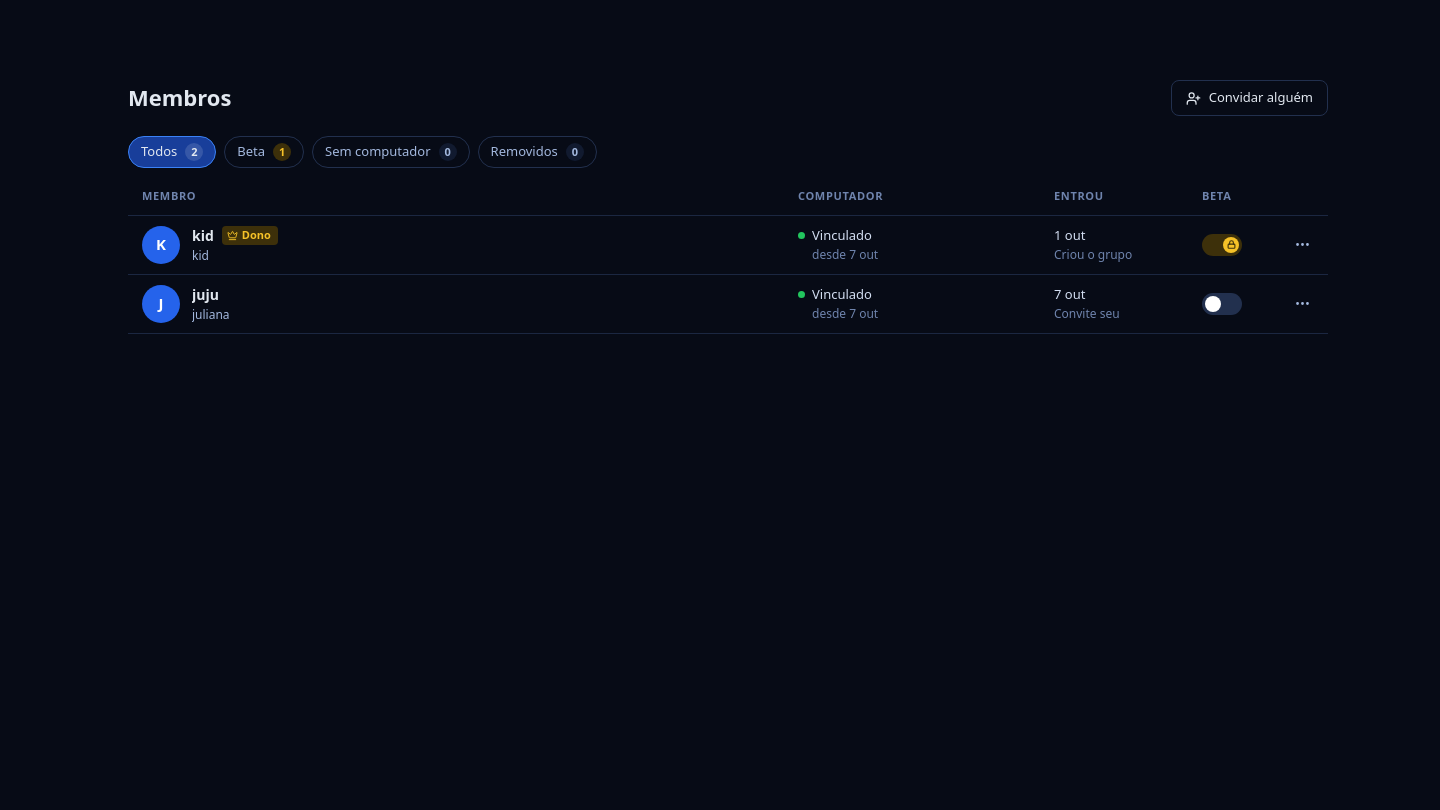
Test: ações do membro › se a recuperação falha, diz que o computador já saiu e o menu ainda oferece a recuperação
Click the button named "Mais ações para juju": (1302, 304) [1286, 288, 1318, 320]
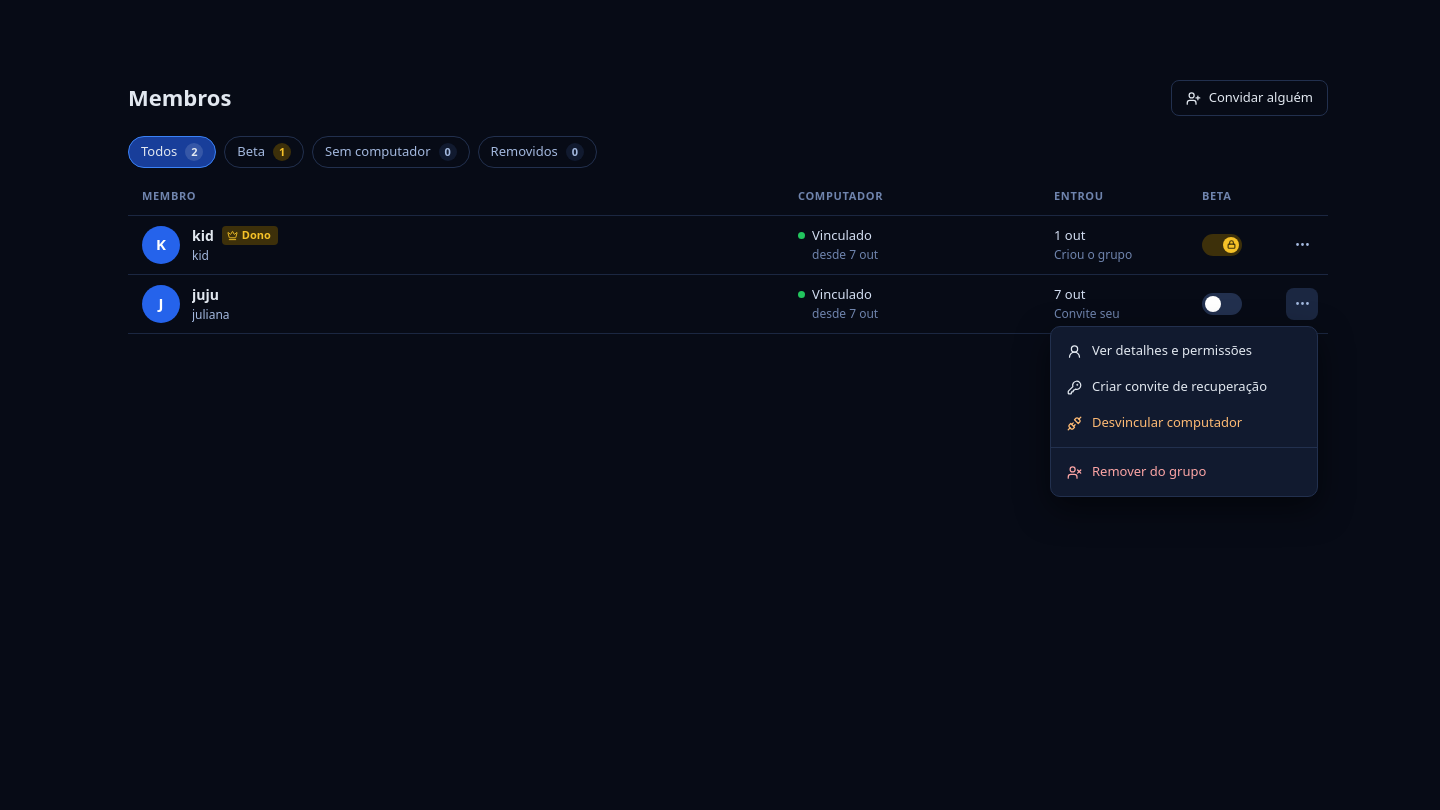
Click the menu item "Desvincular computador": (1155, 422) [1067, 413, 1242, 431]
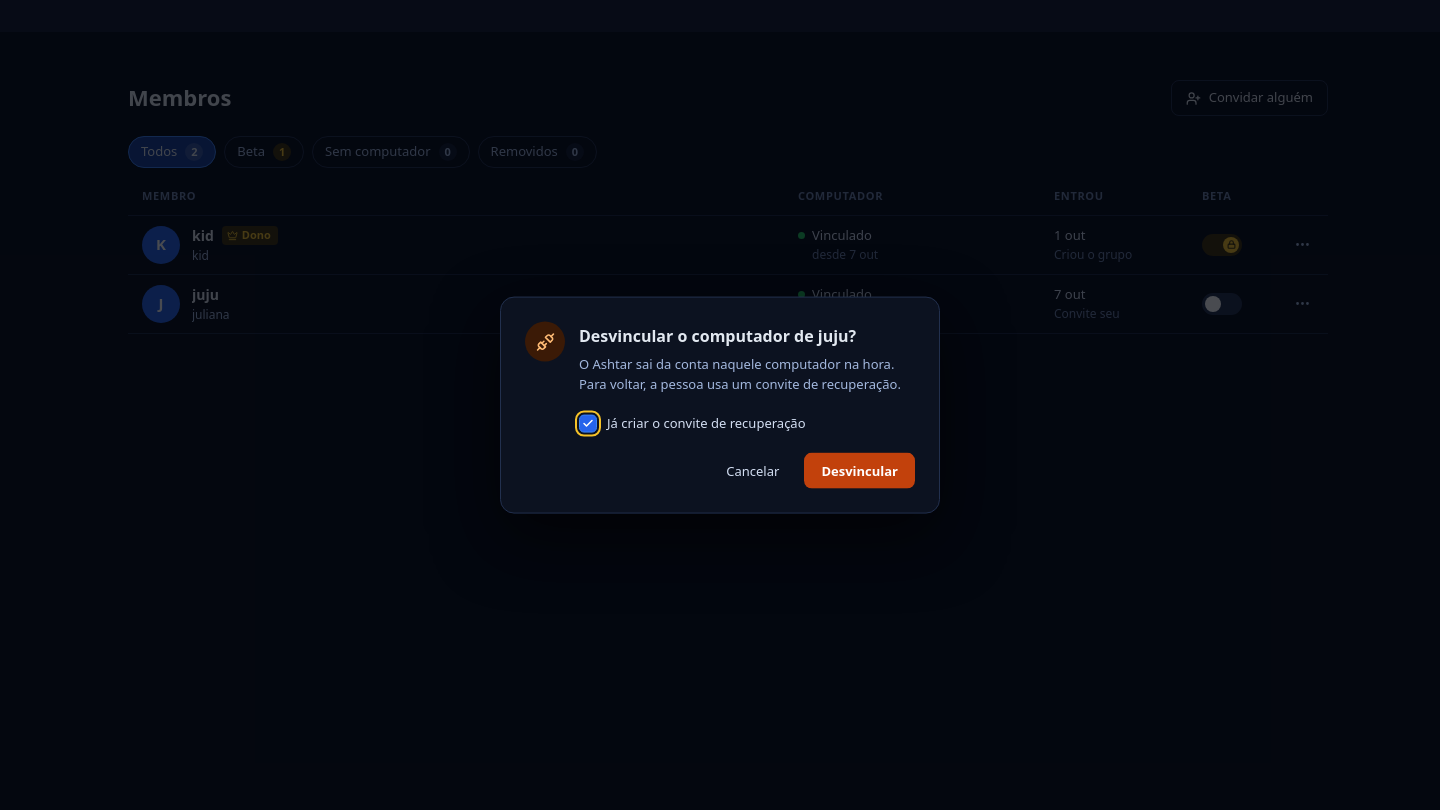
Click the button "Desvincular": (860, 470) [804, 452, 915, 488]
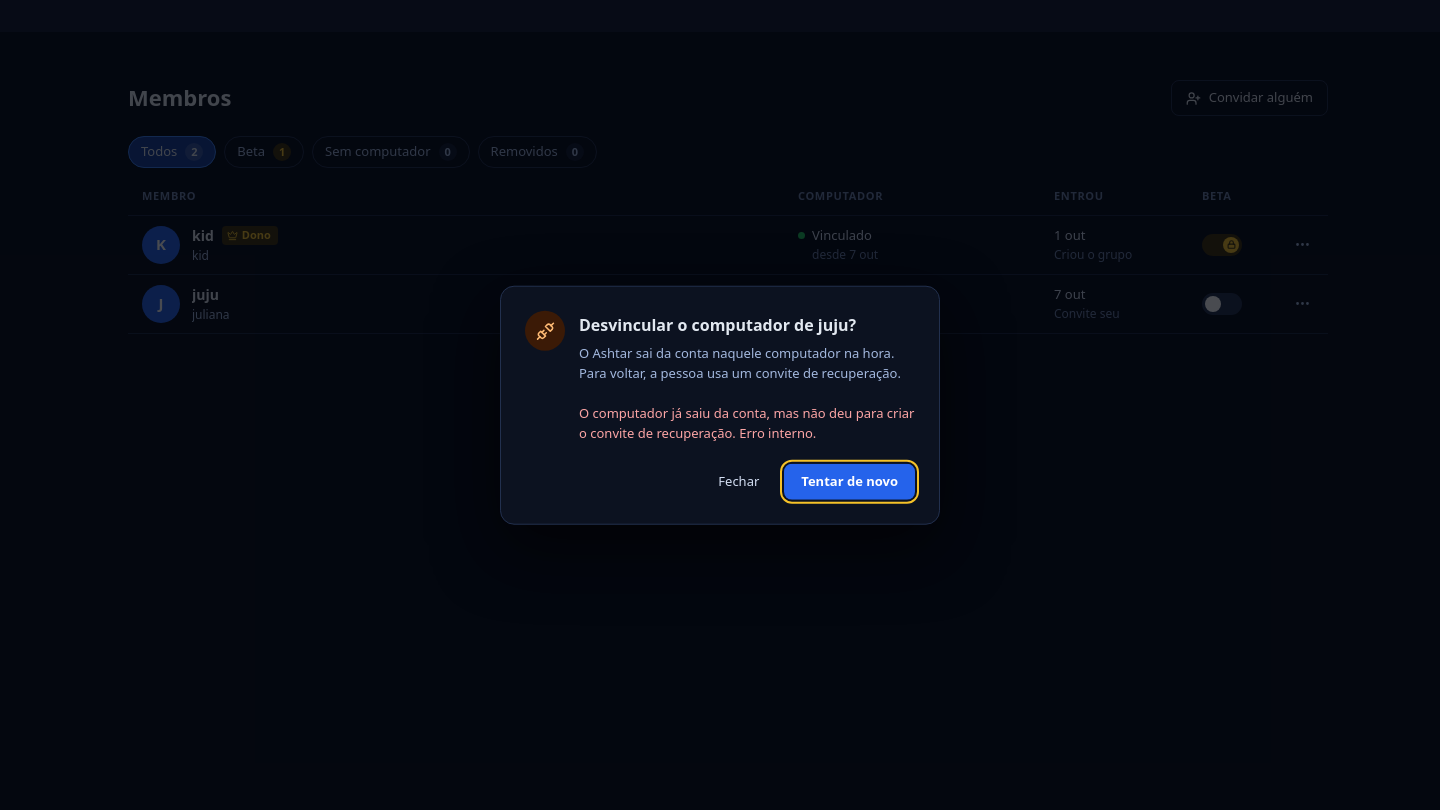
expect the message shows "O computador já saiu da conta": met, box [579, 404, 914, 442]
Click the button "Fechar": (739, 481) [701, 463, 776, 499]
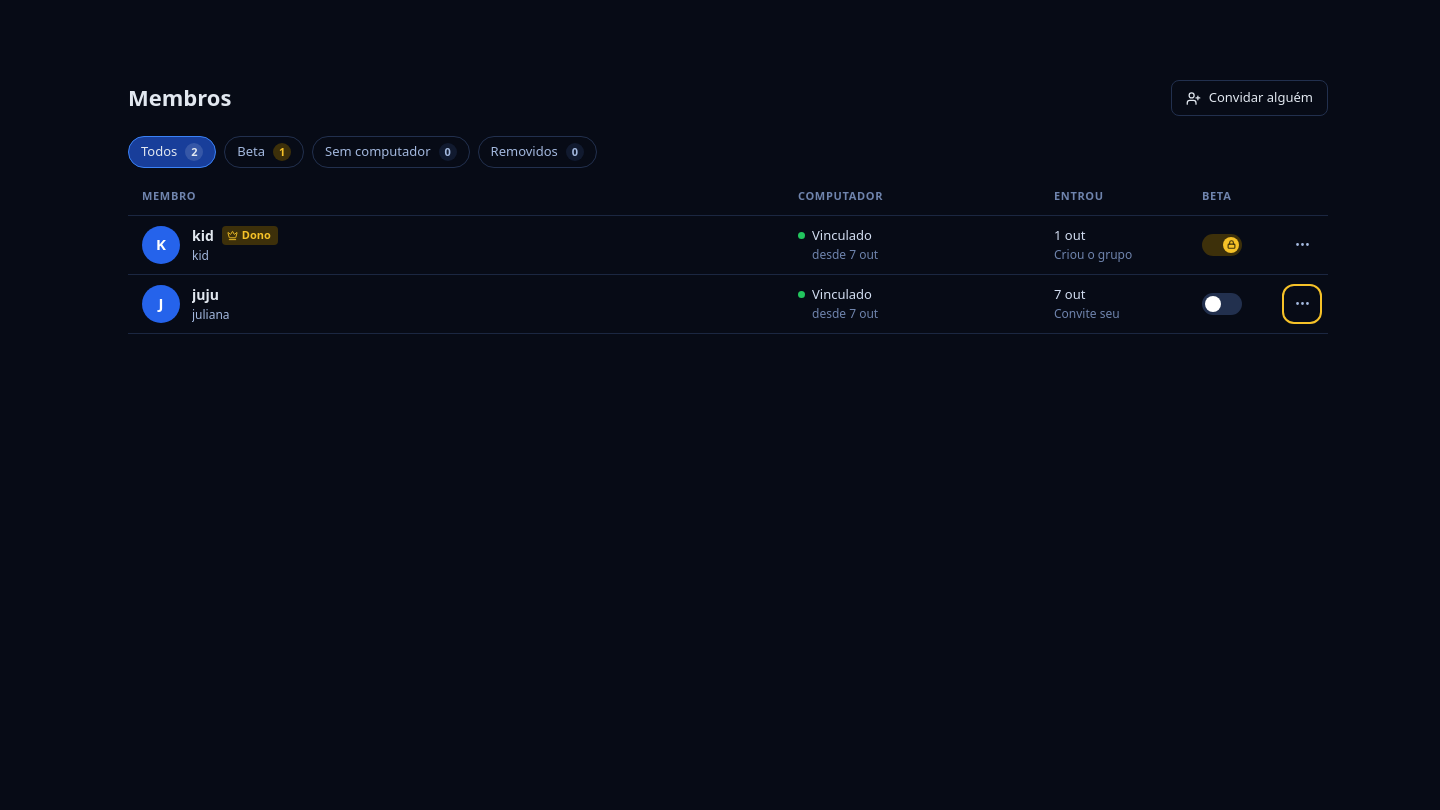
Click the button named "Mais ações para juju": (1302, 304) [1286, 288, 1318, 320]
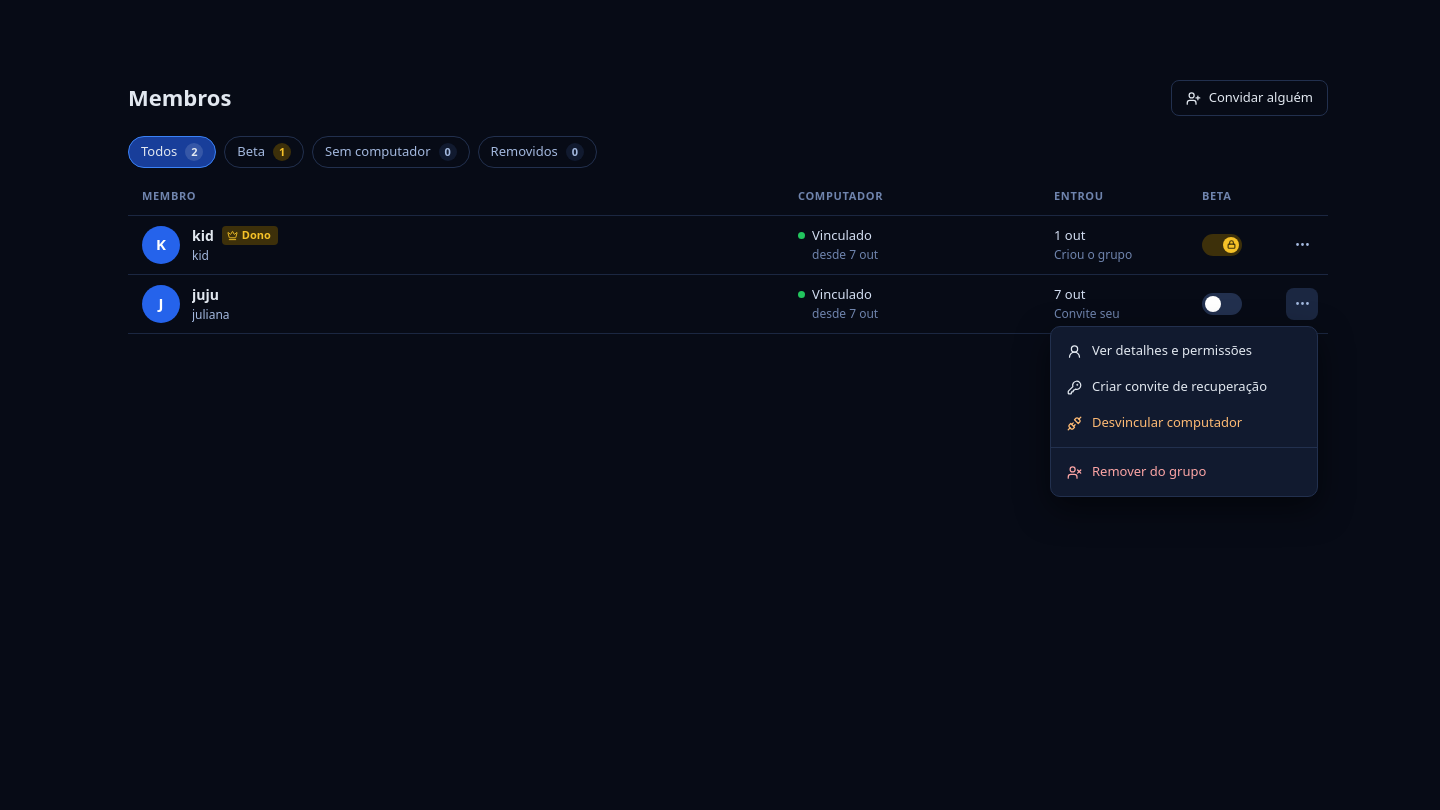
expect the menu item "Criar convite de recuperação" is shown: met, box [1067, 377, 1267, 395]
